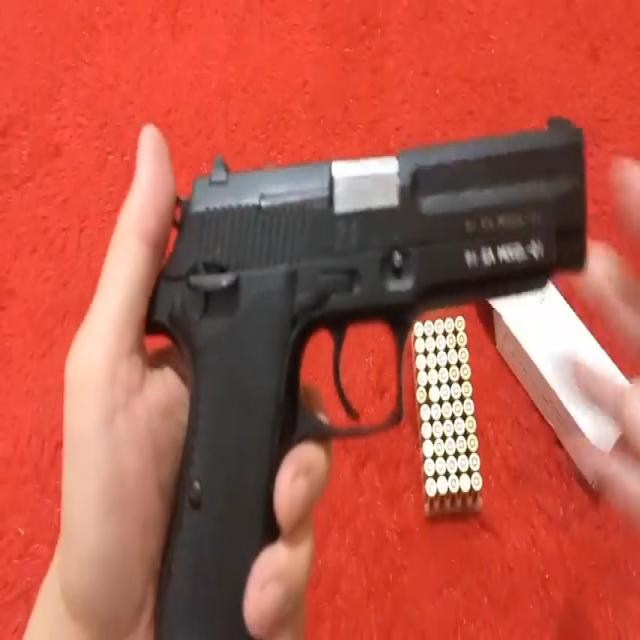handgun: (156, 104, 600, 640)
